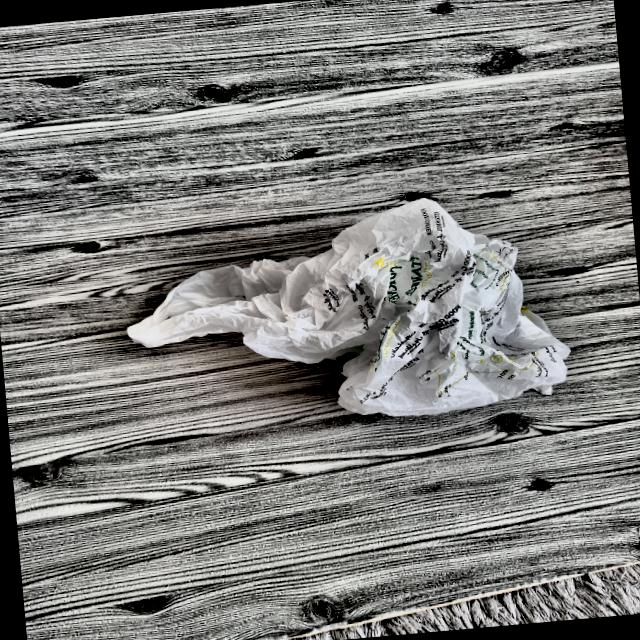plastic bag: (114, 176, 594, 454)
